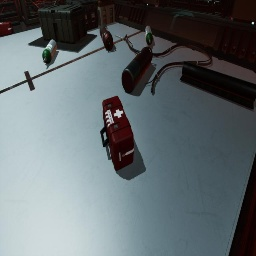0: (42, 39, 57, 64), (145, 26, 153, 45)
FirstAidBox ,: (100, 96, 134, 171), (0, 21, 14, 36)
NitrogenTank ,: (121, 46, 153, 93), (100, 23, 113, 51)
